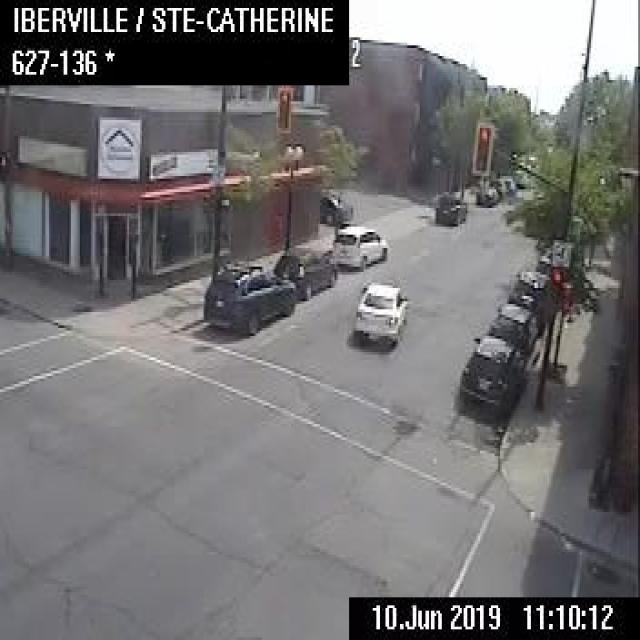vehicle: (202, 261, 296, 333), (455, 332, 525, 417), (272, 241, 336, 300), (353, 280, 407, 347), (488, 300, 537, 353), (331, 222, 388, 267), (507, 265, 549, 319), (317, 187, 353, 226), (432, 191, 467, 224), (474, 184, 496, 204), (535, 246, 550, 268), (488, 176, 505, 194), (499, 171, 515, 190)
